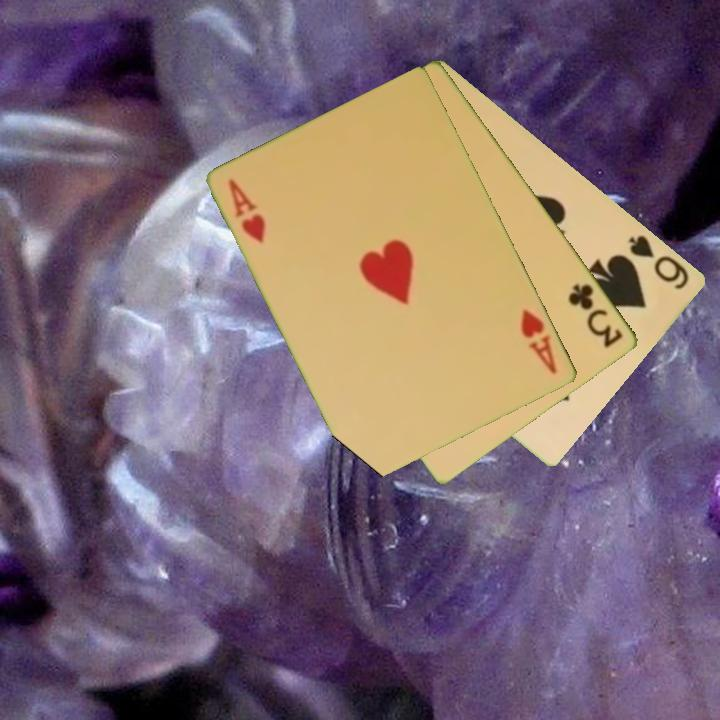3c: (565, 280, 626, 351)
6s: (625, 231, 693, 292)
Ah: (517, 305, 561, 377), (225, 175, 269, 246)
